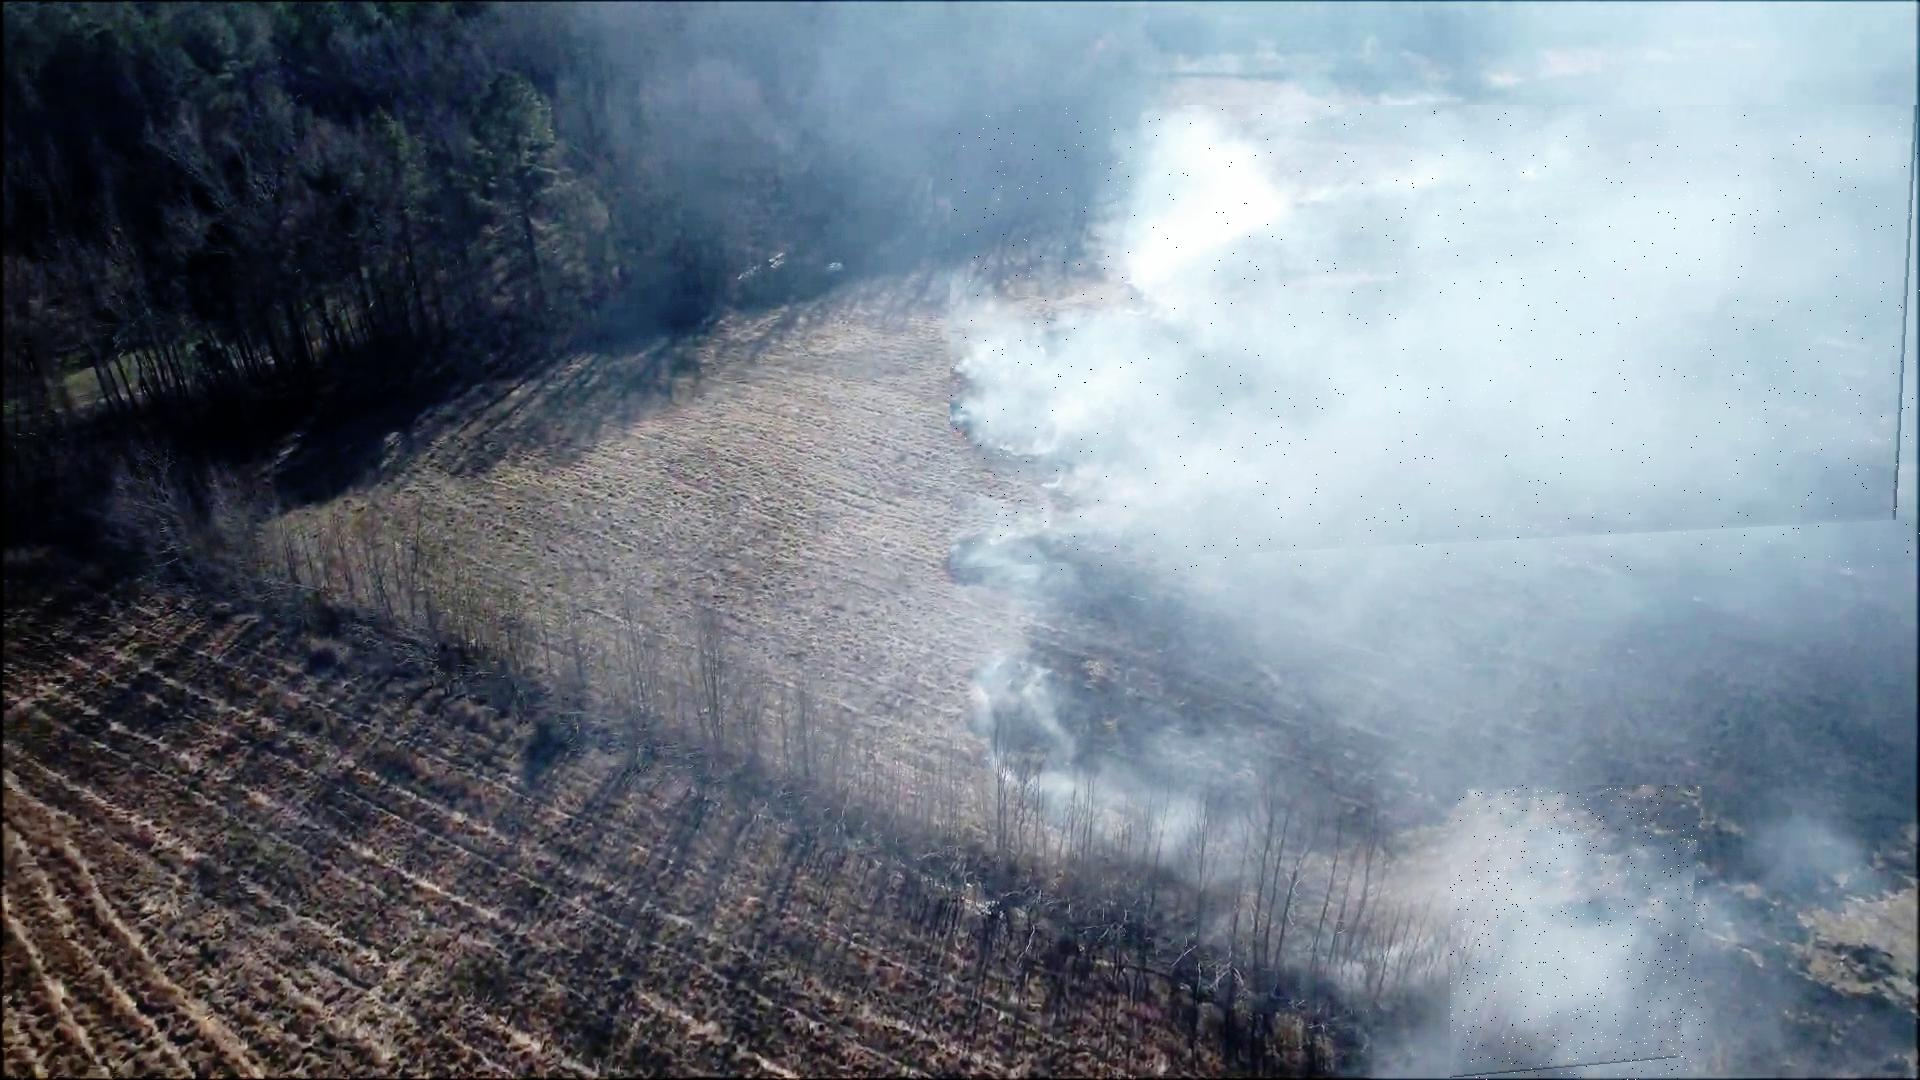smoke: (949, 105, 1920, 570), (1451, 785, 1705, 1080)
